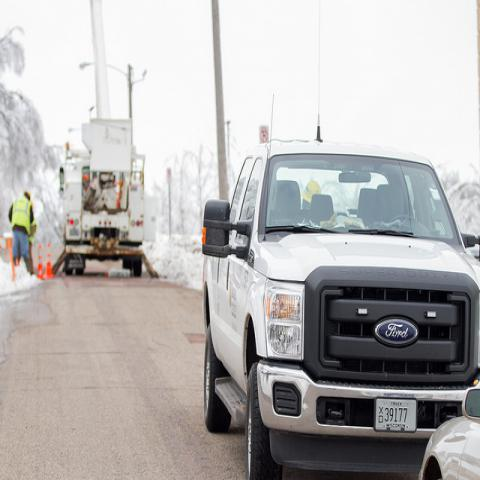car: (421, 387, 479, 479)
truck: (199, 143, 480, 473), (59, 120, 146, 280)
